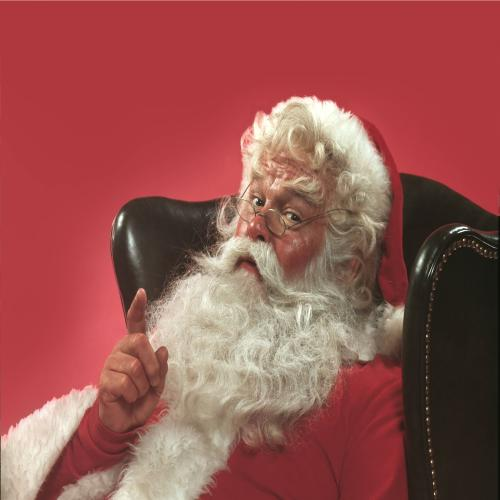Santa: (1, 95, 406, 500)
